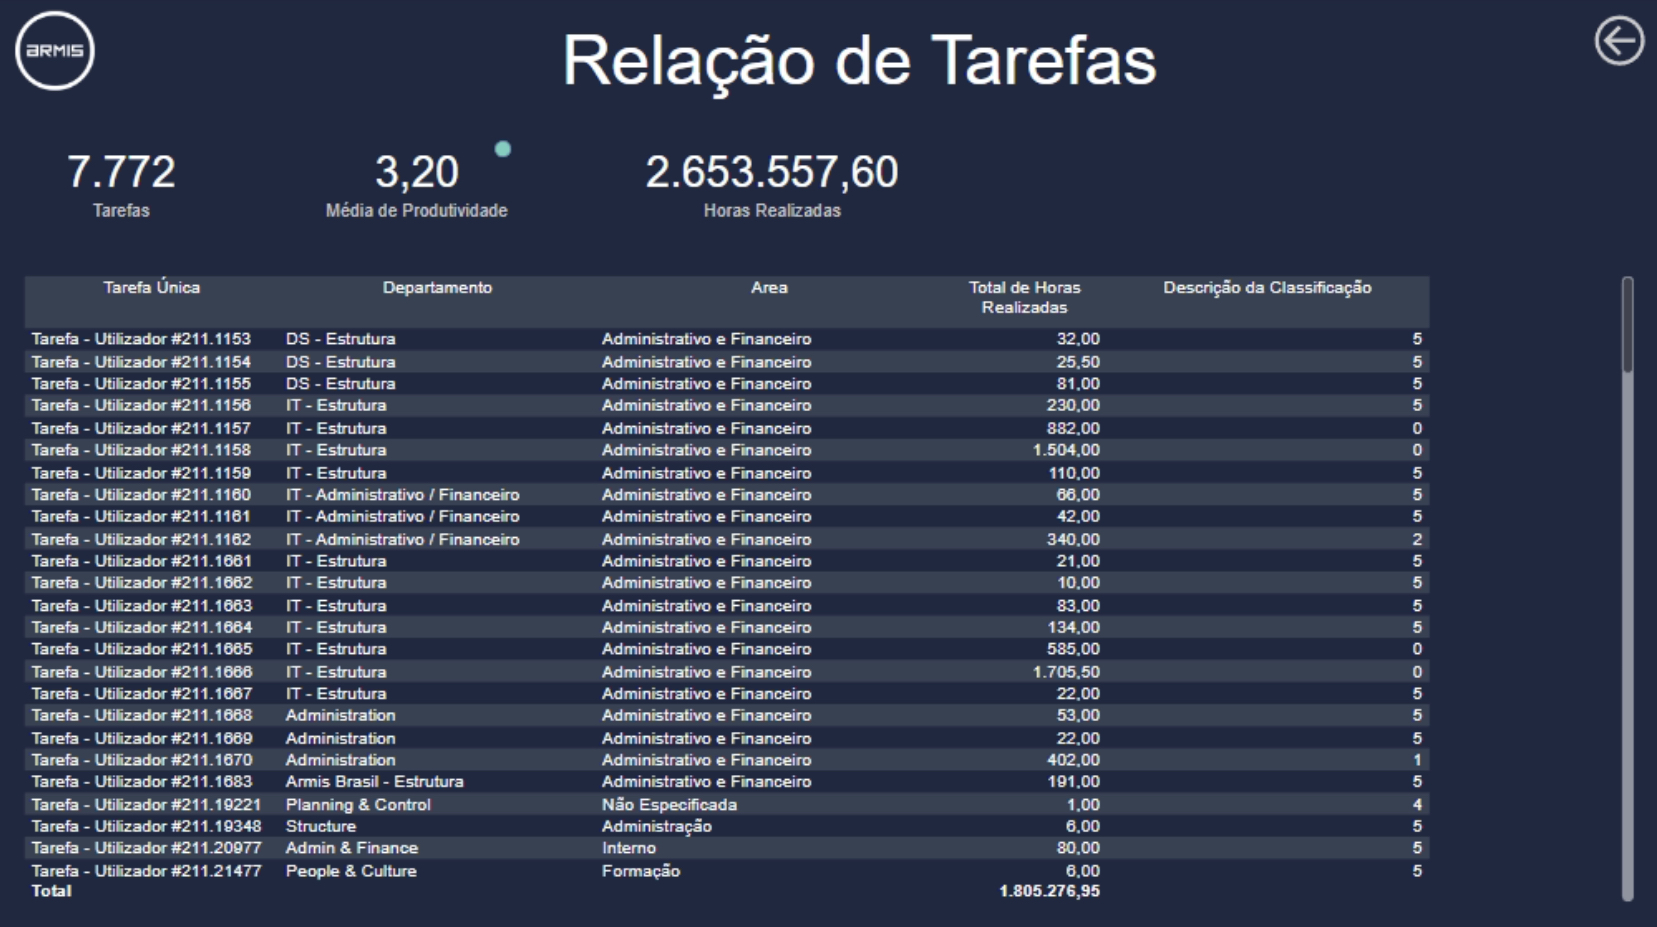

Layout of this report page (visuals, bound fields, positions):
{"tool":"powerbi","page":{"name":"Relação de Tarefas","canvas":[1280,720],"ordinal":4},"visuals":[{"type":"tableEx","fields":{"Values":["Tarefa.Tarefa Única","Projeto.Departamento","Projeto.Area","Produtividade de Tarefas.Horas Realizadas (Tarefa)","Classificação de Produtividade.Nota"]},"box":[15.3,210.3,1247.8,491.1],"z":0},{"type":"image","box":[5.1,6.4,77.8,71.4],"z":1000},{"type":"textbox","box":[408,14,510,77.8],"z":2000},{"type":"card","fields":{"Values":["Produtividade de Tarefas.Média das Classificações (Tarefa)"]},"box":[229.5,100.5,187.4,81.6],"z":3000},{"type":"card","fields":{"Values":["Produtividade de Tarefas.Nº de Tarefas"]},"box":[16.6,101,157.8,81.6],"z":4000},{"type":"card","fields":{"Values":["Produtividade de Tarefas.Horas Realizadas (Tarefa)"]},"box":[472.1,100.5,248.6,81.6],"z":5000},{"type":"actionButton","box":[1223.3,0,49.8,67.8],"z":6000},{"type":"shape","box":[382.5,110.9,12.7,12.7],"z":6501}]}

Visuals, with their boxes in screenshot pixels (x1, y1, x2, y2), scaled from the page's 1280x720 canvas onto the 1657x927 screenshot:
tableEx - Tarefa.Tarefa Única x Projeto.Departamento: region(20, 271, 1635, 903)
image: region(7, 8, 107, 100)
textbox: region(528, 18, 1188, 118)
card - Produtividade de Tarefas.Média das Classificações (Tarefa): region(297, 129, 540, 234)
card - Produtividade de Tarefas.Nº de Tarefas: region(21, 130, 226, 235)
card - Produtividade de Tarefas.Horas Realizadas (Tarefa): region(611, 129, 933, 234)
actionButton: region(1584, 0, 1648, 87)
shape: region(495, 143, 512, 159)
